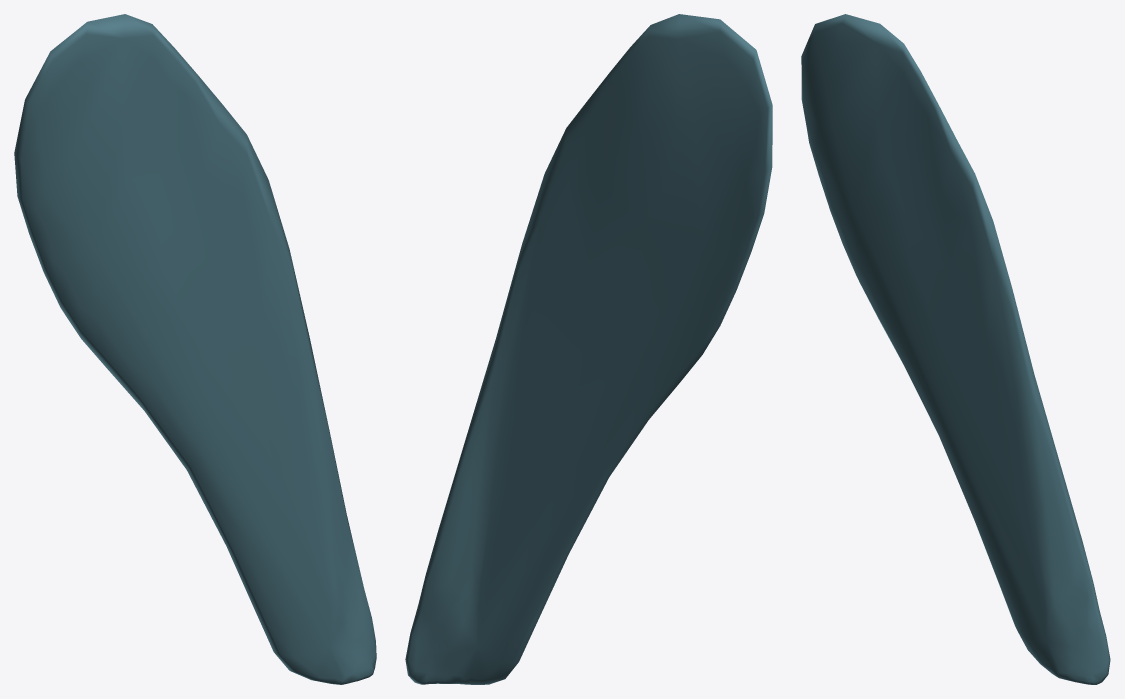
Rendered from Pectoralis_major_humeral_insertion_left.glb.
3 views of the same model, side by side, from view 1: azimuth 30°, elevation 25°; view 2: azimuth 150°, elevation 25°; view 3: azimuth 330°, elevation 25° (orthographic). The views are drawn at different scales.
Visible parts, largest first — view 1: Pectoralis_major_muscle-Humeral_insertion.l_Generated_Mesh_F; view 2: Pectoralis_major_muscle-Humeral_insertion.l_Generated_Mesh_F; view 3: Pectoralis_major_muscle-Humeral_insertion.l_Generated_Mesh_F.
Boxes of the visible parts, <box> form: Pectoralis_major_muscle-Humeral_insertion.l_Generated_Mesh_F: <box>14,14,376,684</box>; Pectoralis_major_muscle-Humeral_insertion.l_Generated_Mesh_F: <box>405,14,772,684</box>; Pectoralis_major_muscle-Humeral_insertion.l_Generated_Mesh_F: <box>801,14,1110,684</box>.
Bounding box in the file's own units: 0.0232 × 0.0446 × 0.00208.
